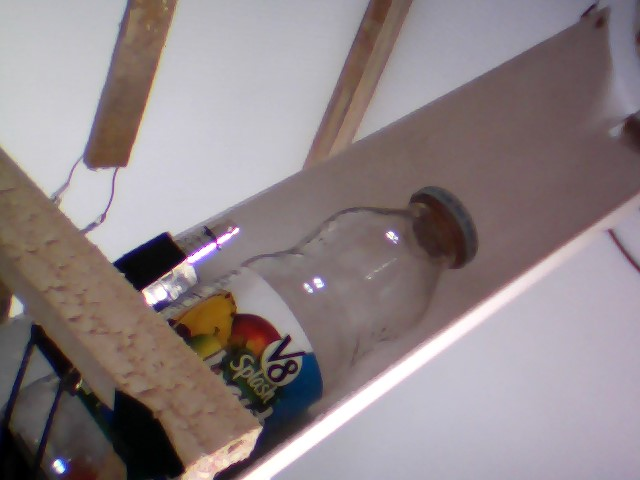vidrio: (179, 181, 486, 427)
